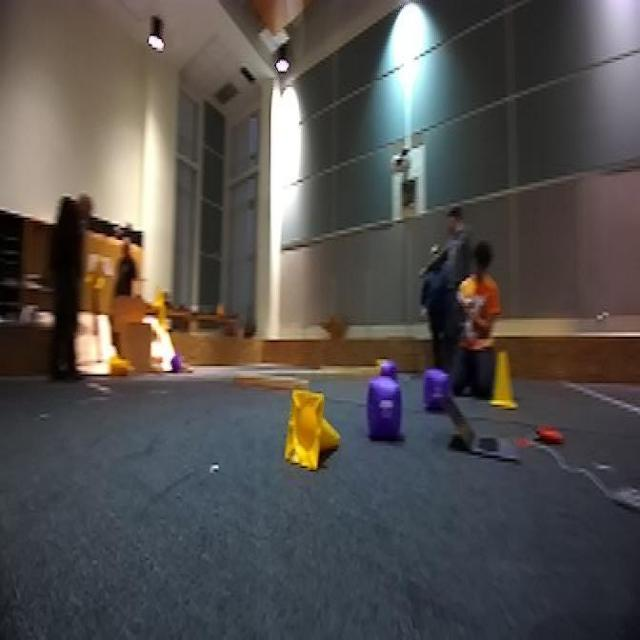frc_cone: (284, 390, 346, 473), (489, 349, 519, 410), (106, 352, 128, 380)
frc_cube: (366, 375, 403, 439), (422, 366, 452, 408), (377, 358, 396, 380), (168, 354, 185, 373)
